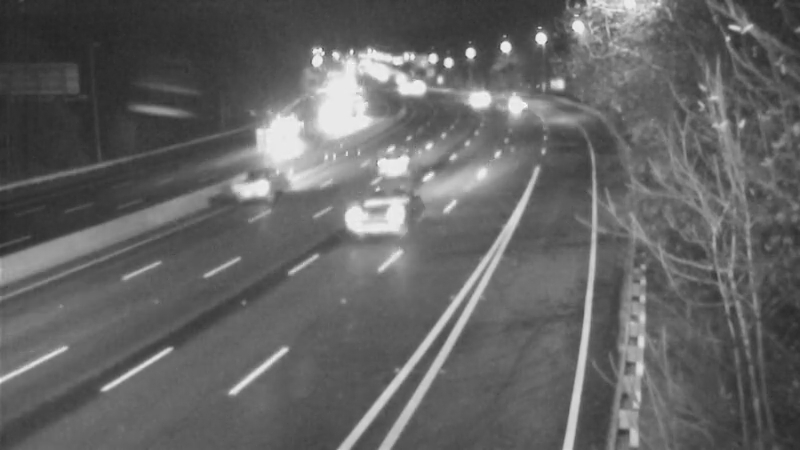vehicle: (354, 127, 434, 207), (211, 141, 291, 221), (333, 182, 413, 262), (392, 67, 442, 117), (442, 71, 492, 121), (493, 77, 543, 127), (265, 95, 315, 145)
